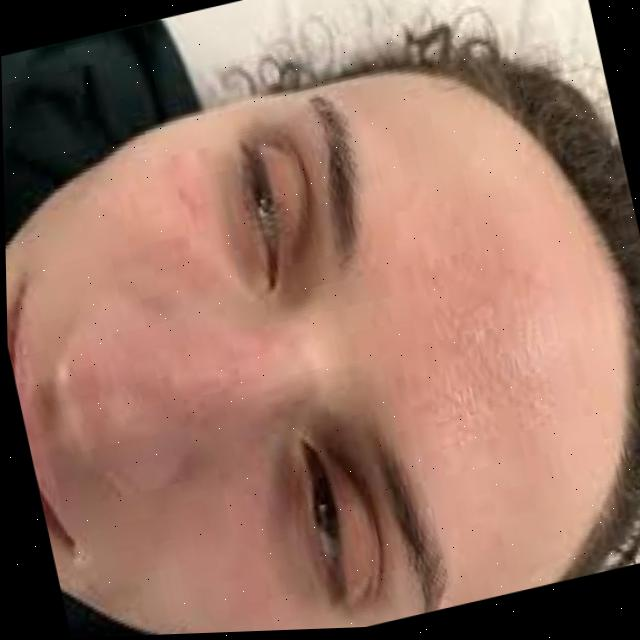Rosacea: (165, 164, 224, 273)
